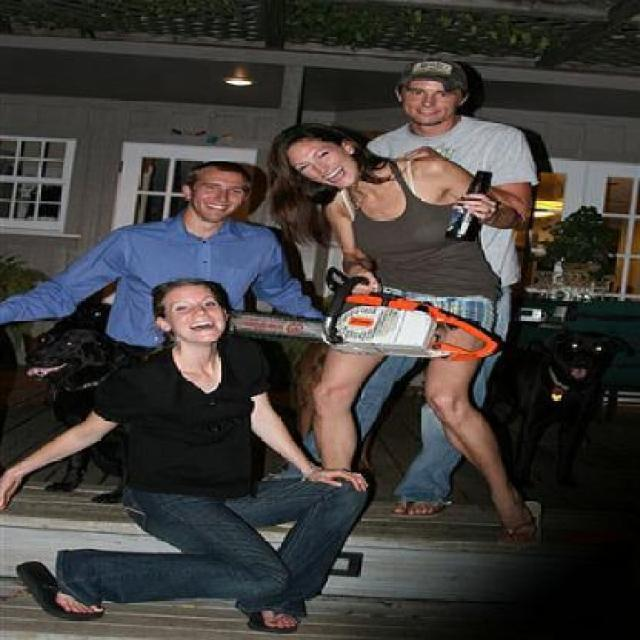Chainsaw: (230, 268, 498, 362)
